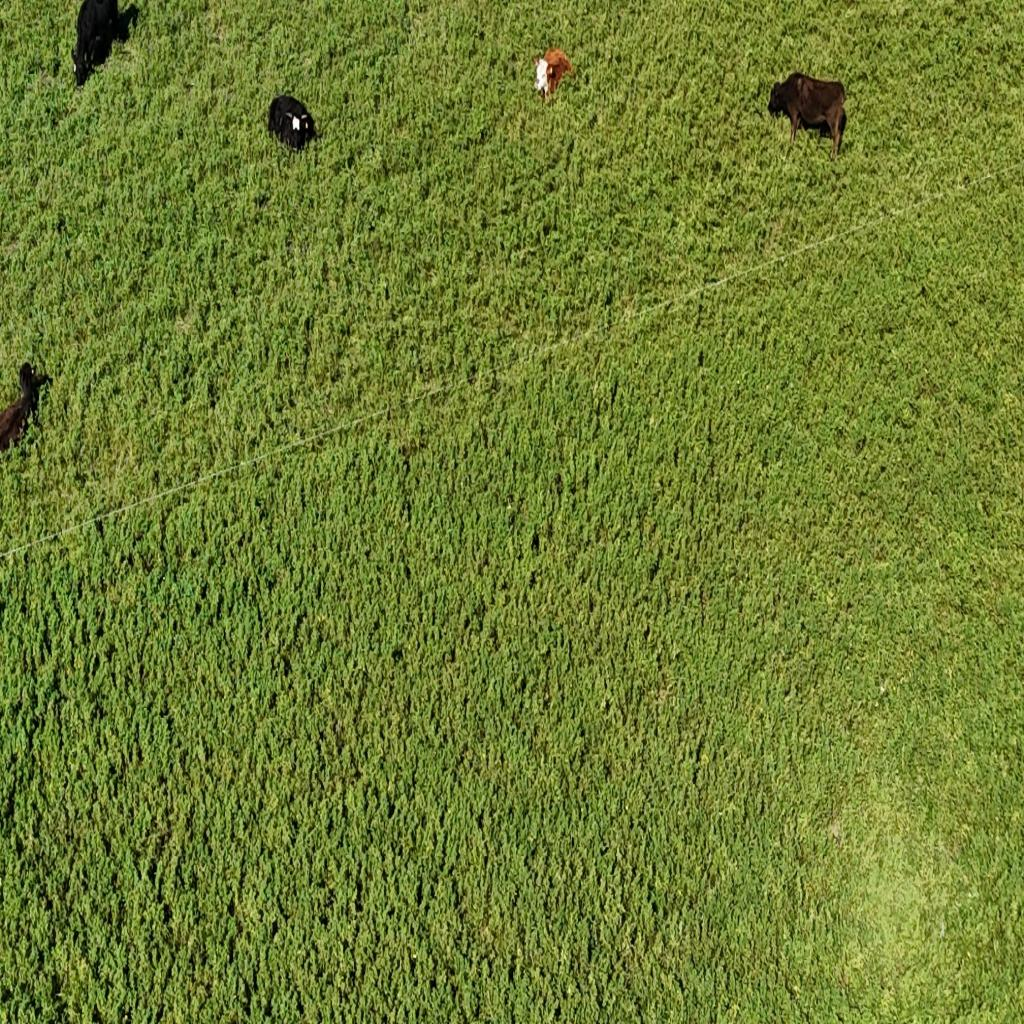cow: (767, 70, 847, 164), (0, 363, 48, 458), (71, 0, 120, 91), (268, 93, 316, 153), (533, 48, 575, 102)
